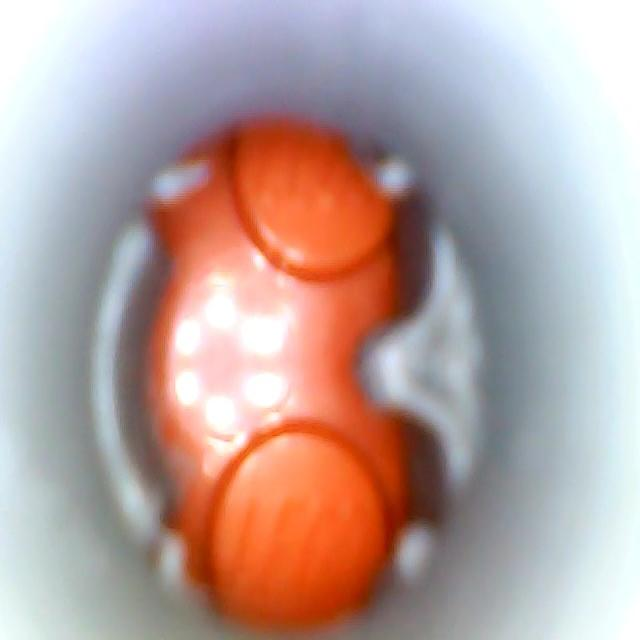studs: (209, 428, 388, 624), (227, 124, 392, 280)
